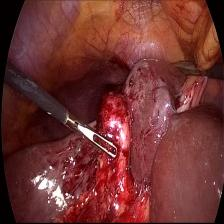Grasper: (63, 111, 118, 168)
